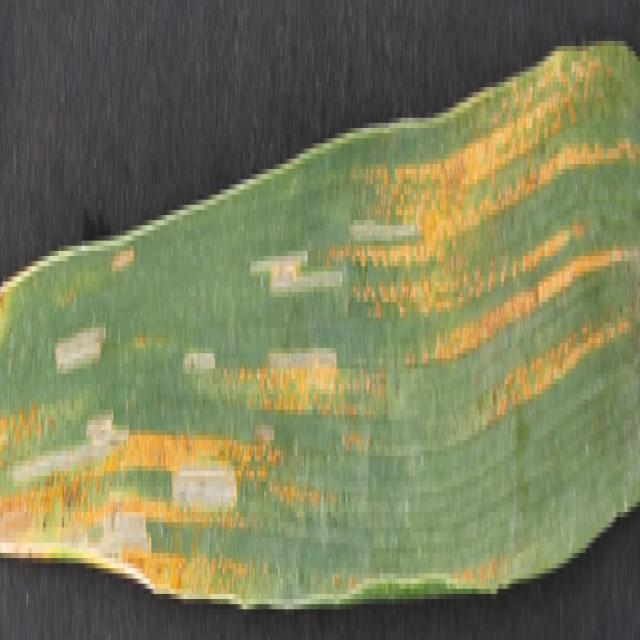leaf rust: (320, 51, 640, 481), (1, 348, 318, 599)
